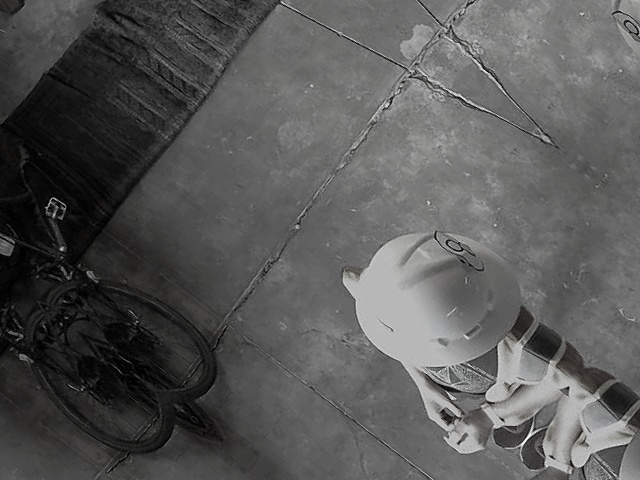eight: (426, 222, 491, 277)
